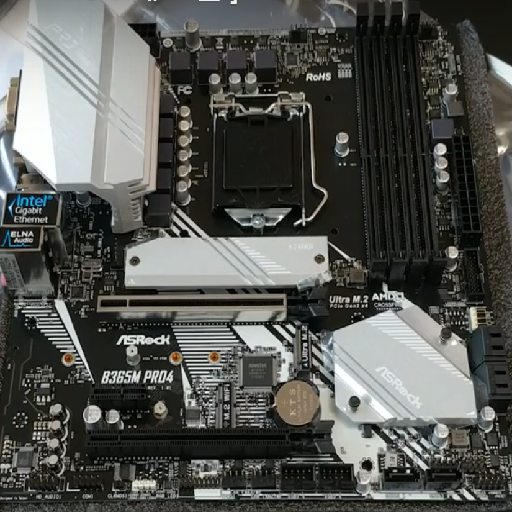CPU: (197, 87, 328, 232)
GPU: (82, 418, 342, 458), (89, 289, 333, 327)
MOTHERBOARD: (6, 8, 512, 511)
RAM: (348, 3, 447, 272)
SSD: (207, 367, 240, 431), (286, 321, 321, 379)
